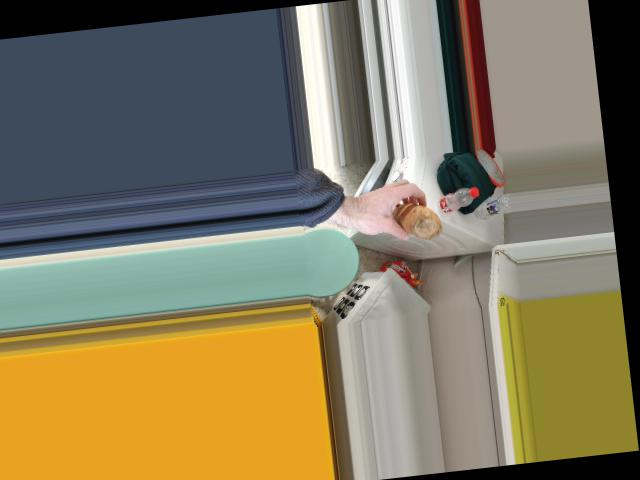sweet_potato: (389, 197, 443, 242)
